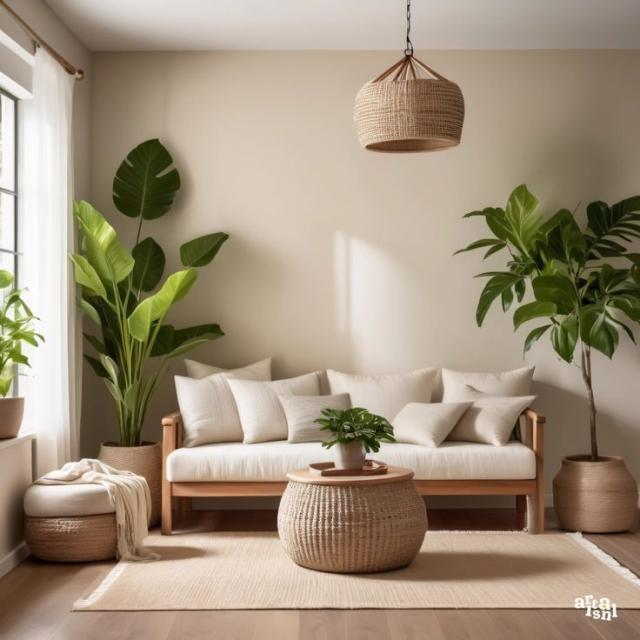obstacle: (160, 360, 546, 535), (276, 460, 427, 573)
